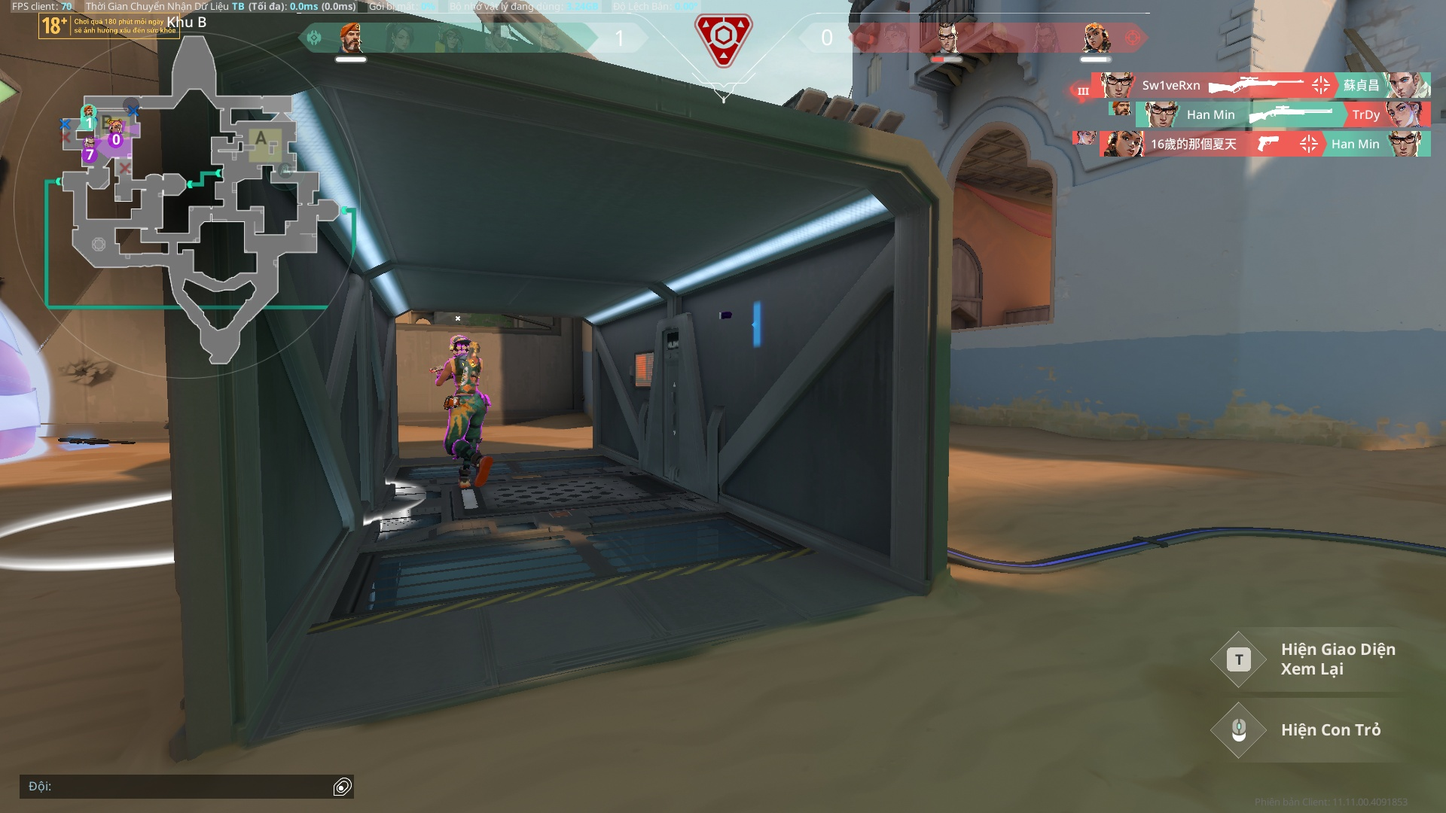body: (452, 356, 484, 392)
head: (451, 333, 474, 357)
